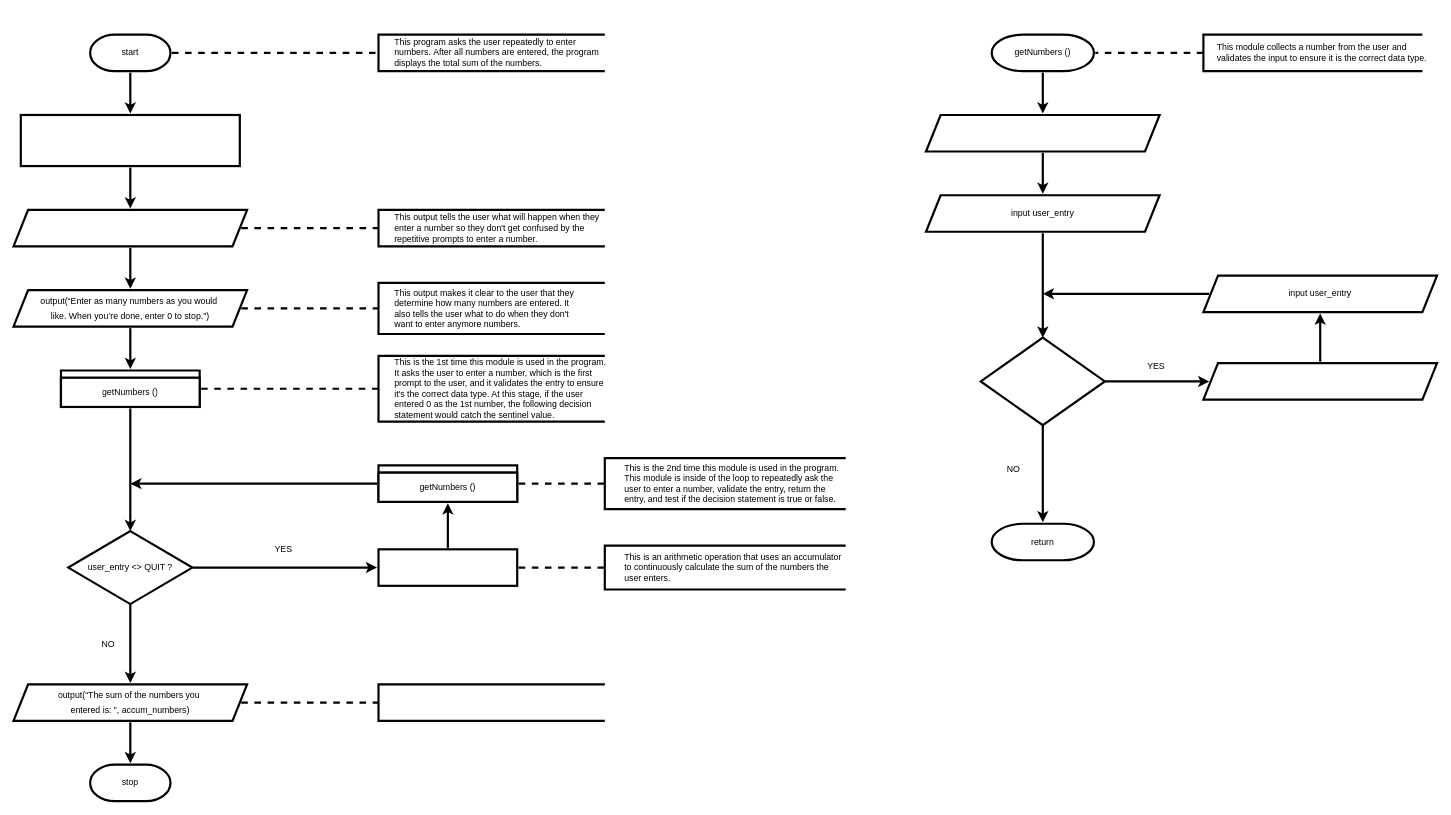
Some shapes in this 1451 by 815 pixel diagram are drawn without their labels. Here are the shapes that lost their labels. From the top down, the box of each, then its label:
(19, 114, 241, 167): Declaration n um user_entry num accum_numbers = 0 num QUIT = 0
(925, 114, 1160, 152): output(“Please enter a number: ")
(12, 208, 248, 247): output (“Hello, you will be asked repeatedly to enter a number.”)
(979, 336, 1106, 426): NOT isNumeric(user_entry) ?
(1202, 362, 1438, 400): output("Invalid entry - Please enter a number: ")
(377, 548, 518, 587): accum_numbers = accum_numbers + user_entry
(377, 683, 606, 722): This output displays the sum of the numbers the user entered.
